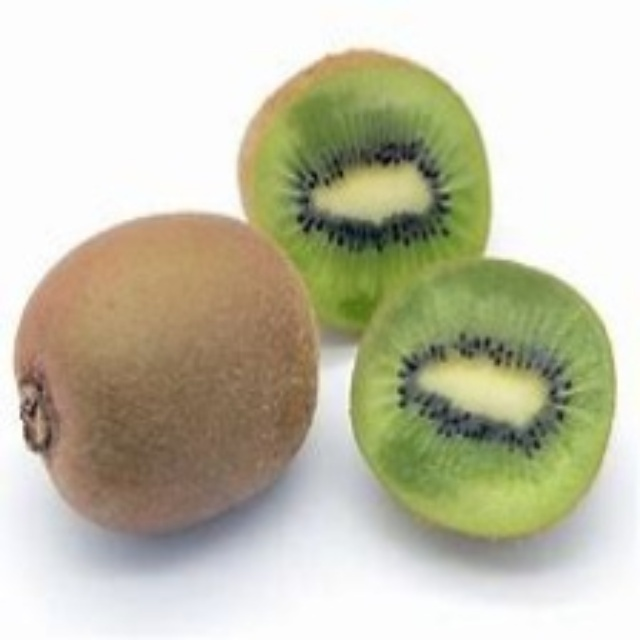kiwi: (12, 222, 318, 535), (355, 257, 605, 538), (239, 47, 492, 322)
